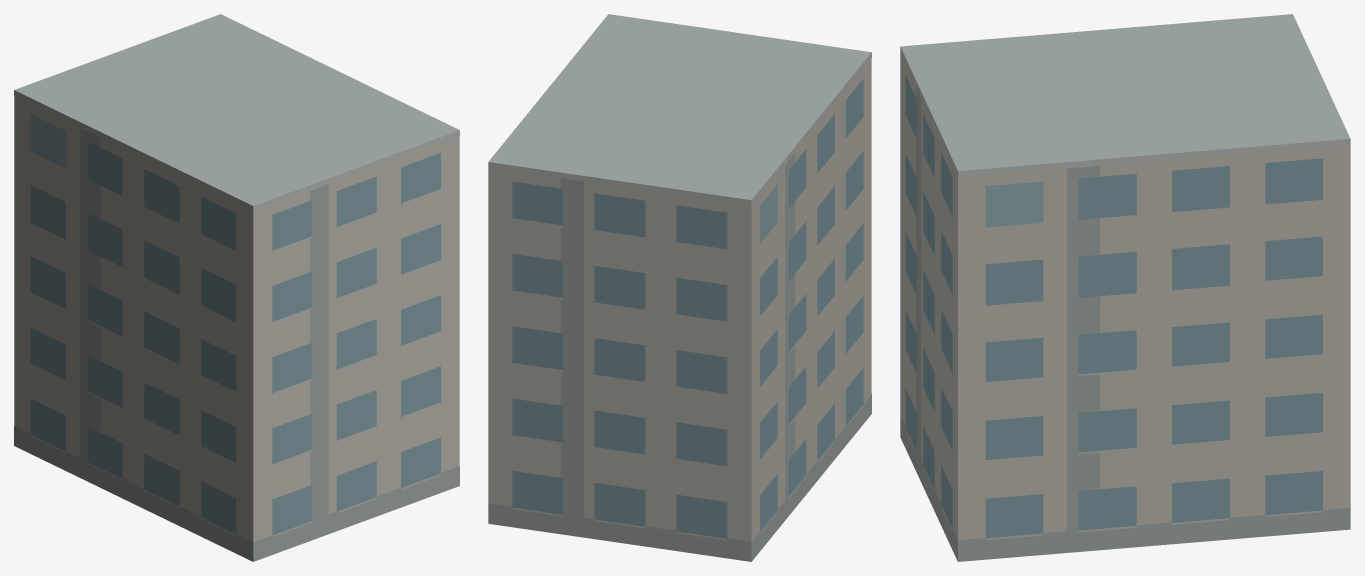
File: residential-cdf53b9f-a97c-46ac-b831-00e0bb419a62.glb
3 renders of one model, left to right at view 1: azimuth 30°, elevation 25°; view 2: azimuth 150°, elevation 25°; view 3: azimuth 270°, elevation 25°, orthographic. The views are drawn at different scales.
Visible parts, largest first — view 1: residential-cdf53b9f-a97c-46ac-b831-00e0bb419a62.tmp; view 2: residential-cdf53b9f-a97c-46ac-b831-00e0bb419a62.tmp; view 3: residential-cdf53b9f-a97c-46ac-b831-00e0bb419a62.tmp.
Part boxes in pixels (left/top/right/bottom): residential-cdf53b9f-a97c-46ac-b831-00e0bb419a62.tmp: left=14, top=14, right=459, bottom=561; residential-cdf53b9f-a97c-46ac-b831-00e0bb419a62.tmp: left=488, top=14, right=871, bottom=561; residential-cdf53b9f-a97c-46ac-b831-00e0bb419a62.tmp: left=900, top=14, right=1350, bottom=561.
Bounding box in the file's own units: 13.16 × 15.25 × 15.93.
